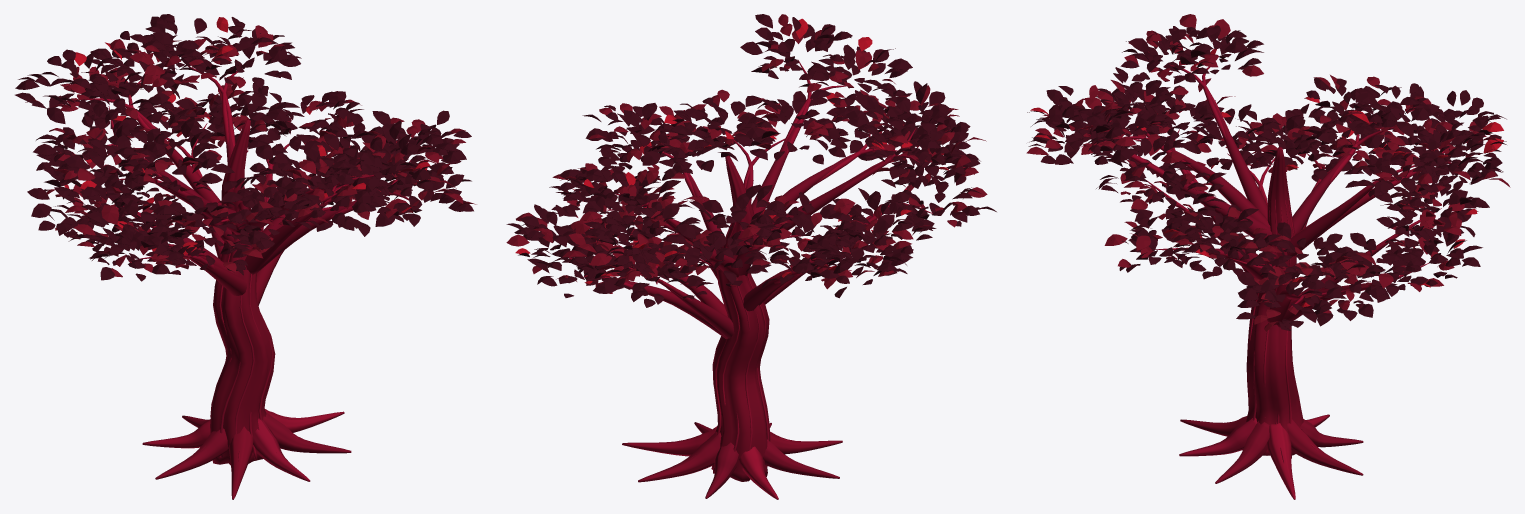
File: SM_RV_Tree.fbx
The picture shows the model from 3 angles, left to right: view 1: azimuth 30°, elevation 25°; view 2: azimuth 150°, elevation 25°; view 3: azimuth 270°, elevation 25°; orthographic projection. The views are drawn at different scales.
Parts seen in each view (by area): view 1: SM_RV_Tree; view 2: SM_RV_Tree; view 3: SM_RV_Tree.
Part boxes in pixels (<box>): SM_RV_Tree: <box>15,14,476,499</box>; SM_RV_Tree: <box>506,14,996,499</box>; SM_RV_Tree: <box>1026,14,1510,499</box>.
Size of what is drawn, in the model's own units: 1443 by 1303 by 1200.
